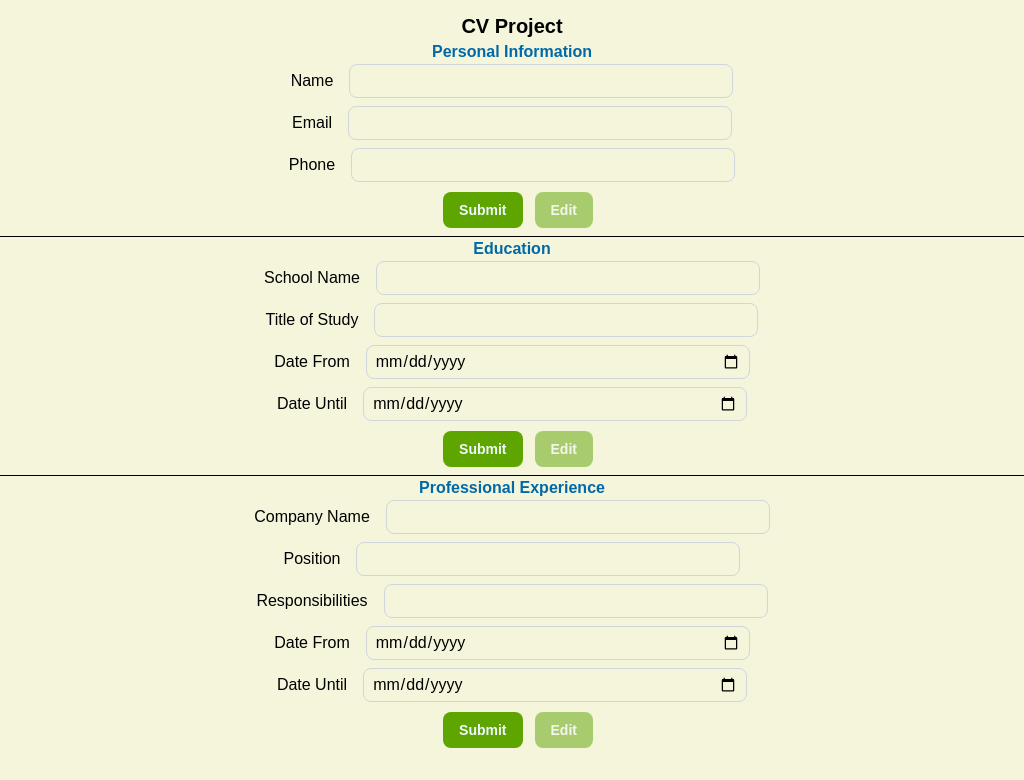
it: App › renders Education field inputs
Type "BAU" into the field labelled "School Name" at point(568, 278), box x1=376 y1=261 x2=760 y2=295
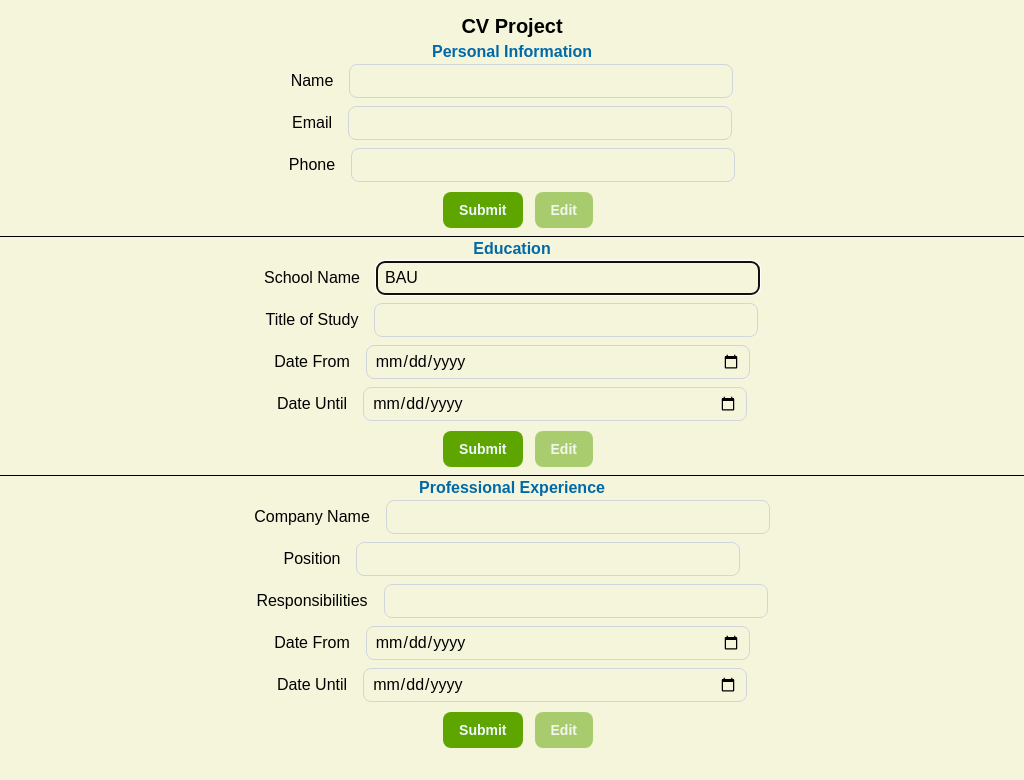
Type "Computer Engineering" into the field labelled "Title of Study" at point(566, 320), box x1=374 y1=303 x2=758 y2=337
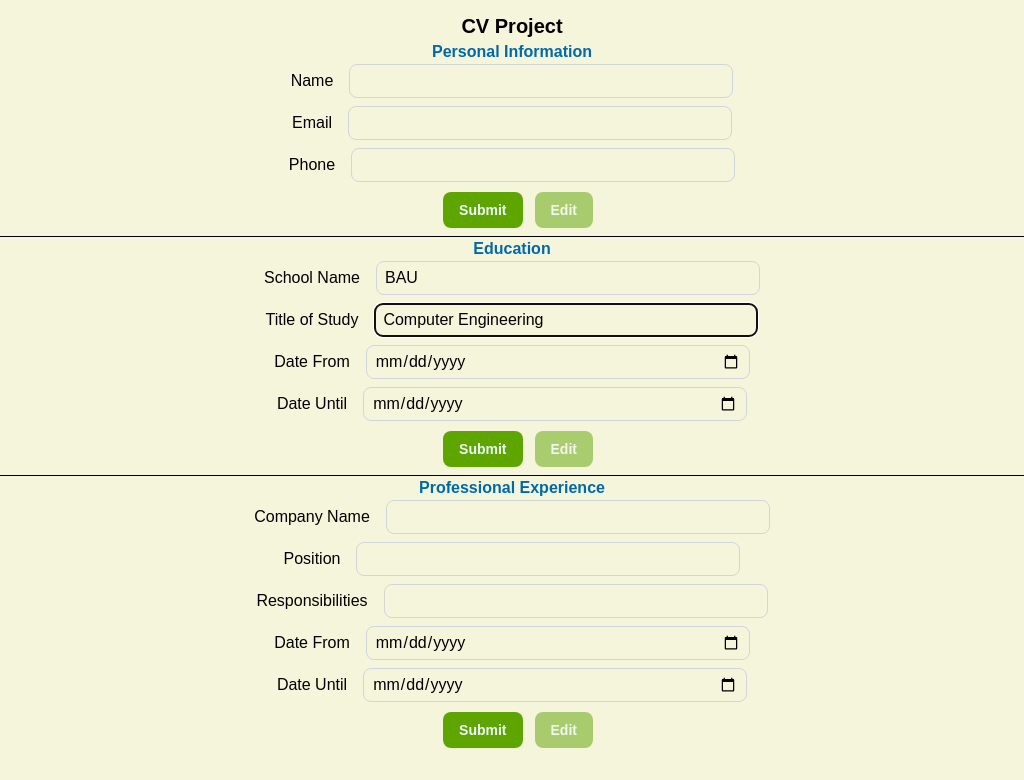
Type "2020-07-01" into the date field labelled "Date From" below "Title of Study" at point(558, 362), box x1=366 y1=345 x2=750 y2=379
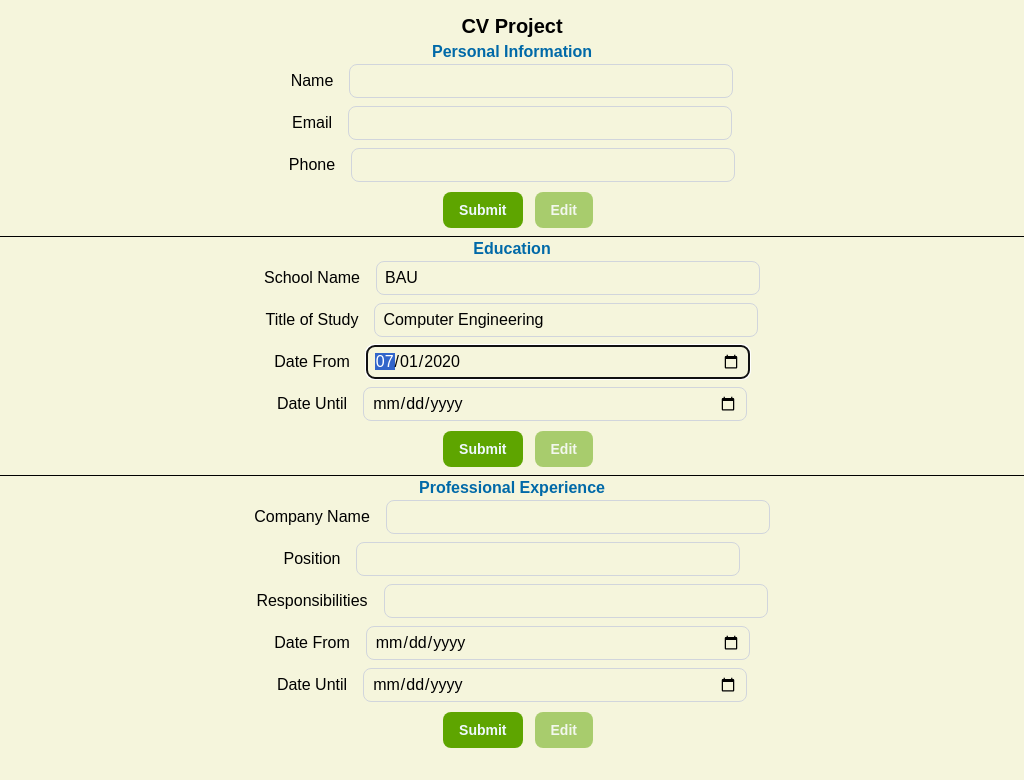
Type "2022-07-01" into the date field labelled "Date Until" below "Title of Study" at point(555, 404), box x1=363 y1=387 x2=747 y2=421
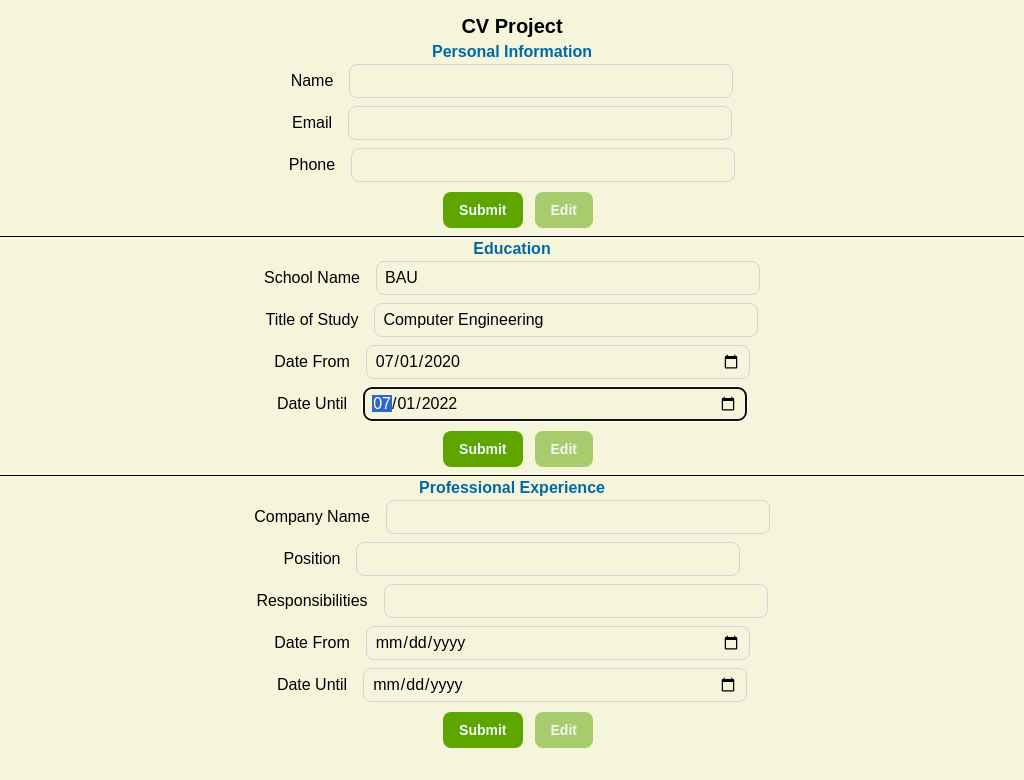
Click the button "Submit" below "Title of Study" at point(483, 449), box x1=443 y1=431 x2=522 y2=467
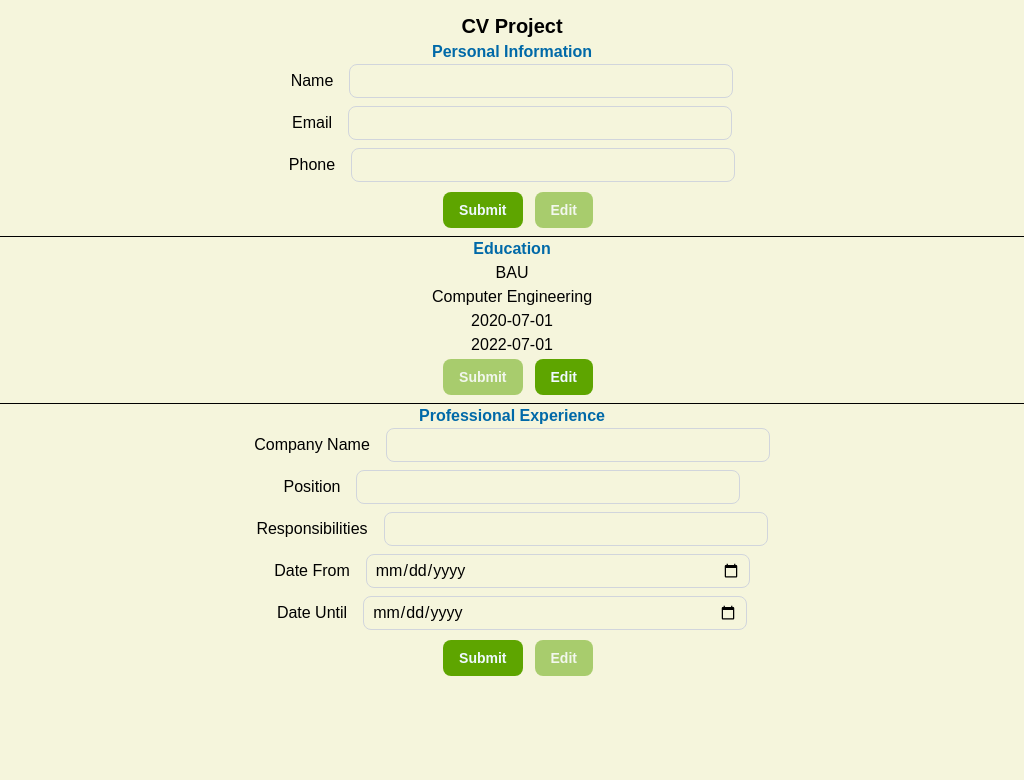
Expected: the text "BAU" is shown, x1=496 y1=261 x2=528 y2=285
Expected: the text "Computer Engineering" is shown, x1=432 y1=285 x2=592 y2=309
Expected: the text "2020-07-01" is shown, x1=471 y1=309 x2=553 y2=333
